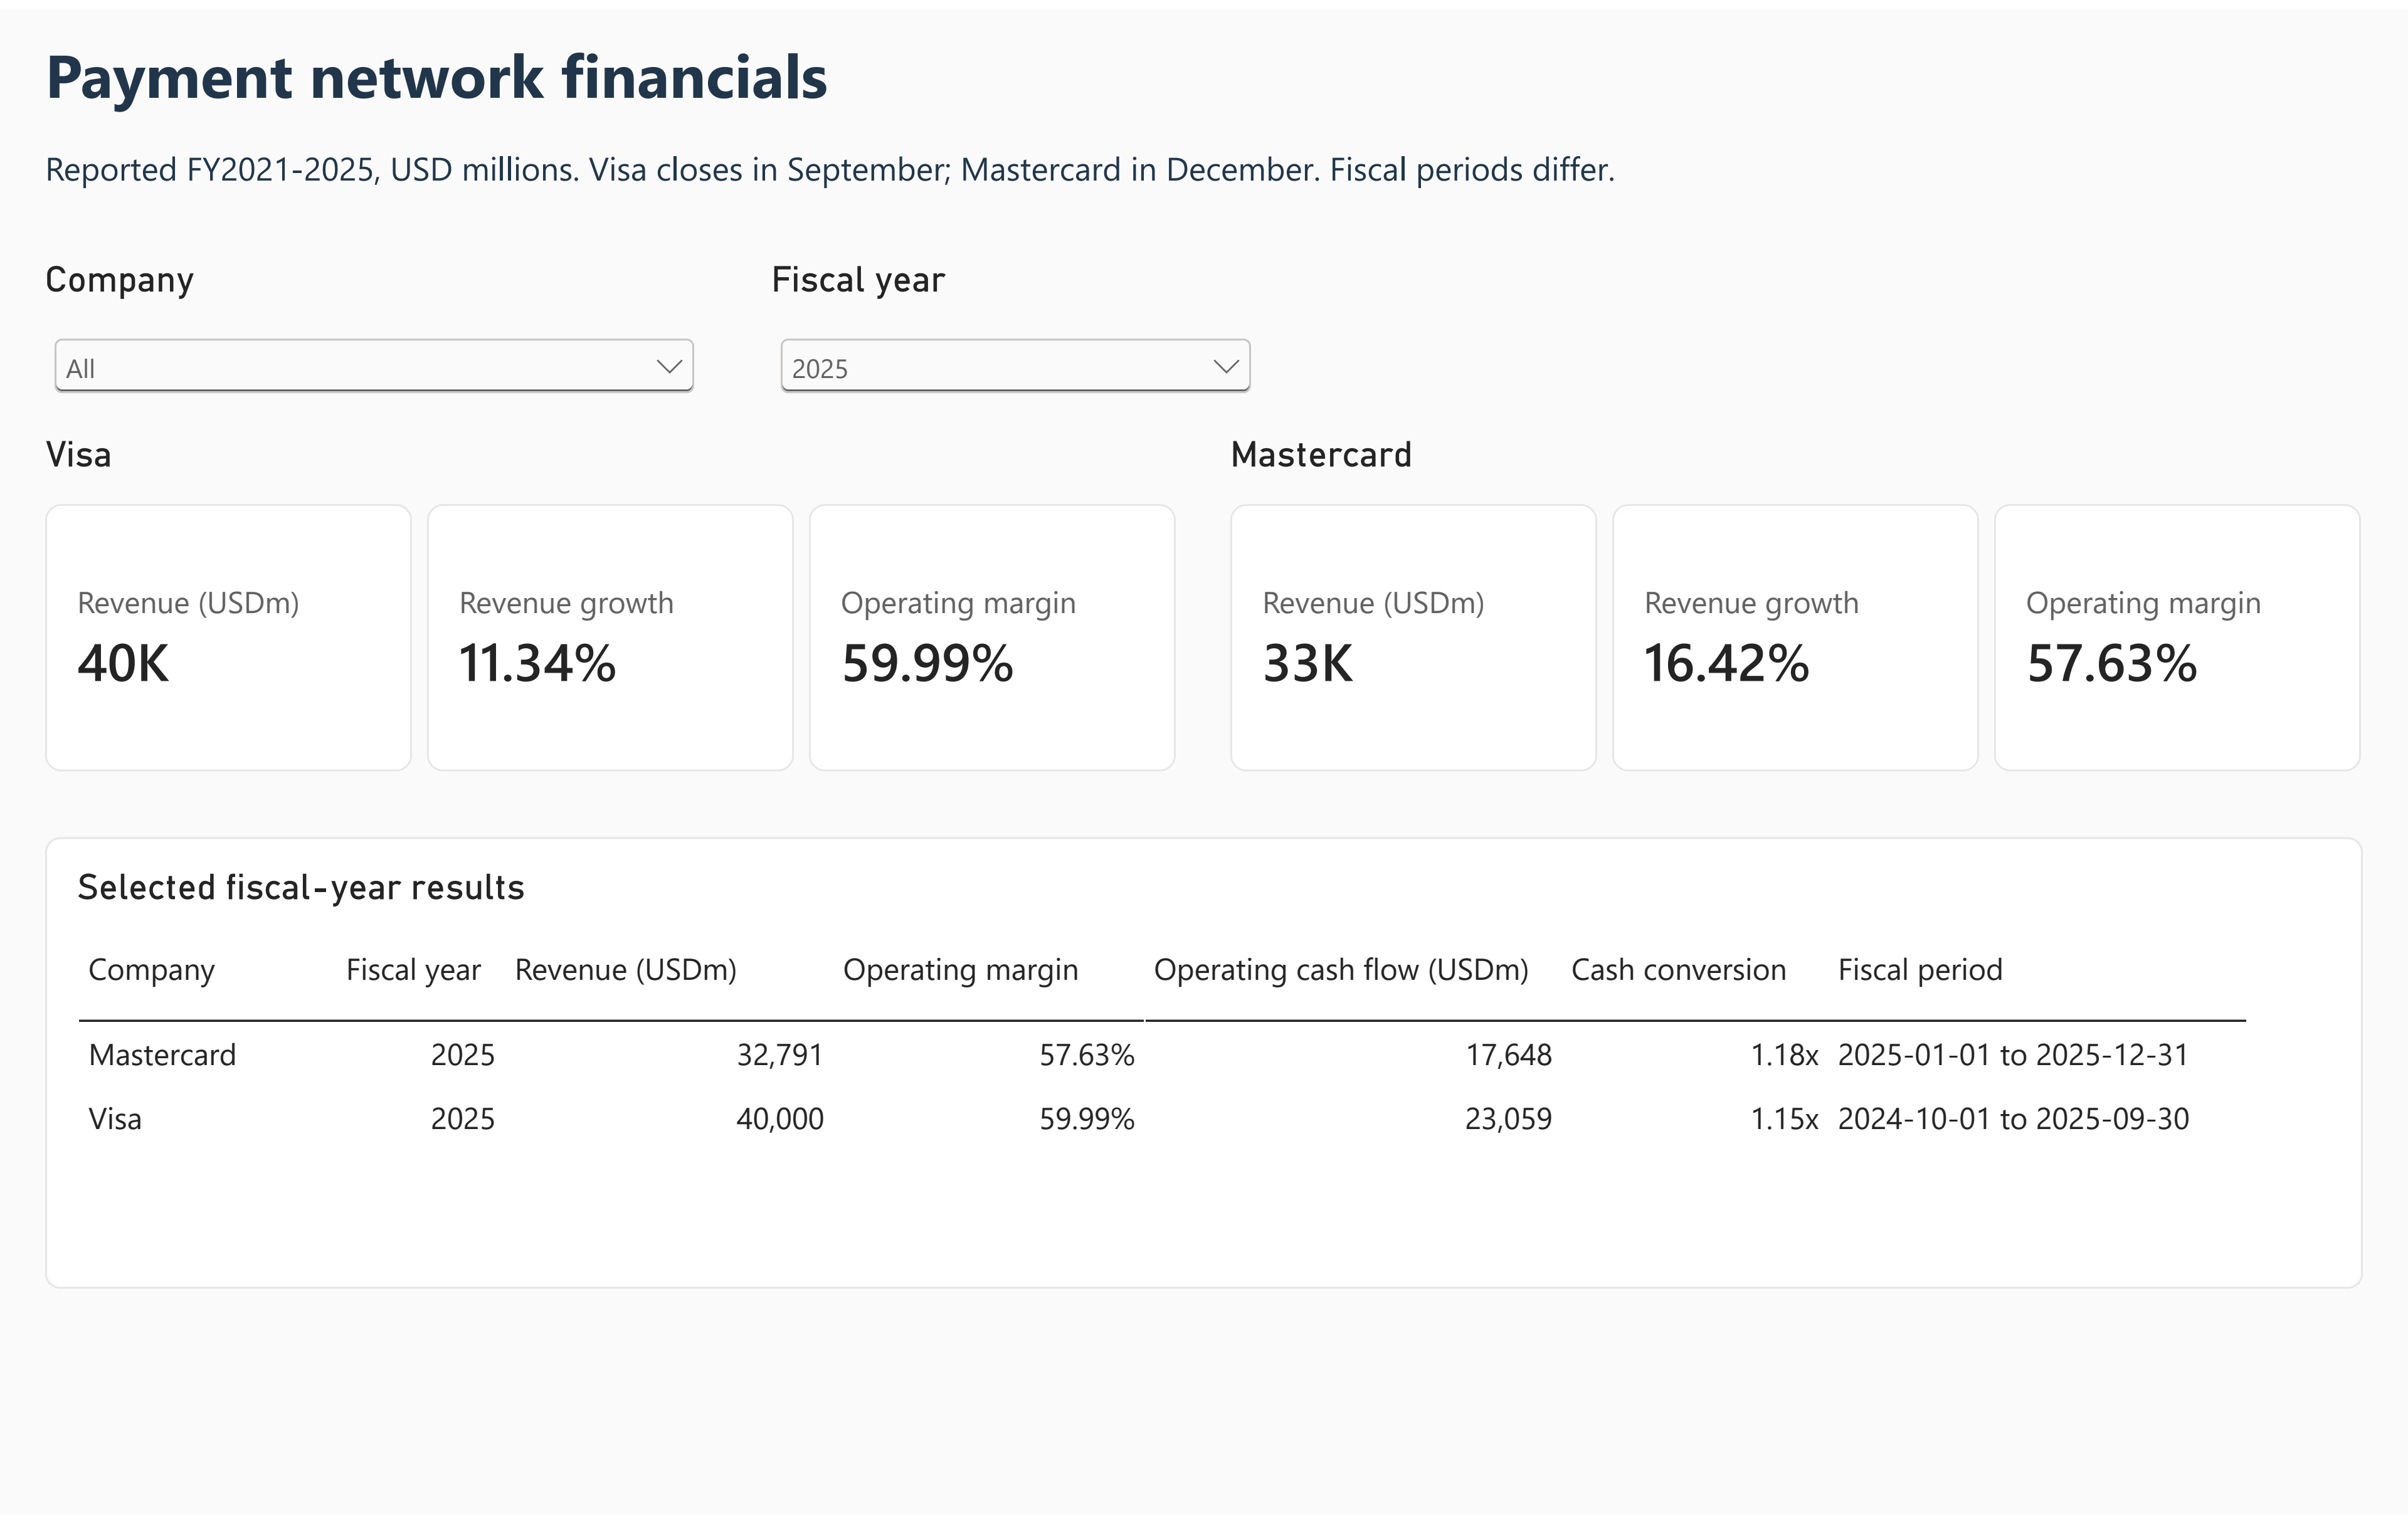

Layout of this report page (visuals, bound fields, positions):
{"tool":"powerbi","page":{"name":"01 Financial Overview","canvas":[1280,800],"ordinal":0},"visuals":[{"type":"tableEx","title":"Selected fiscal-year results","fields":{"Values":["Companies.CompanyName","FiscalYears.FiscalYear","Financials.Revenue (USDm)","Financials.Operating Margin","Financials.Operating Cash Flow (USDm)","Financials.Cash Conversion","Financials.Period Label"]},"box":[24,440,1232,240],"z":0},{"type":"slicer","title":"Company","fields":{"Values":["Companies.CompanyName"]},"box":[24,132,350,80],"z":3},{"type":"slicer","title":"Fiscal year","fields":{"Values":["FiscalYears.FiscalYear"]},"box":[410,132,260,80],"z":4},{"type":"cardVisual","title":"Visa","fields":{"Data":["Financials.Revenue (USDm)","Financials.Revenue YoY","Financials.Operating Margin"]},"box":[24,225,602,180],"z":800},{"type":"cardVisual","title":"Mastercard","fields":{"Data":["Financials.Revenue (USDm)","Financials.Revenue YoY","Financials.Operating Margin"]},"box":[654,225,602,180],"z":800},{"type":"textbox","box":[24,12,1232,58],"z":8000},{"type":"textbox","box":[24,72,1232,48],"z":8000}]}

Visuals, with their boxes in screenshot pixels (x1, y1, x2, y2), scaled from the page's 1280x800 canvas onto the 2408x1524 screenshot:
"Selected fiscal-year results" tableEx: 45/838/2363/1295
"Company" slicer: 45/251/704/404
"Fiscal year" slicer: 771/251/1260/404
"Visa" cardVisual: 45/429/1178/772
"Mastercard" cardVisual: 1230/429/2363/772
textbox: 45/23/2363/134
textbox: 45/137/2363/229
